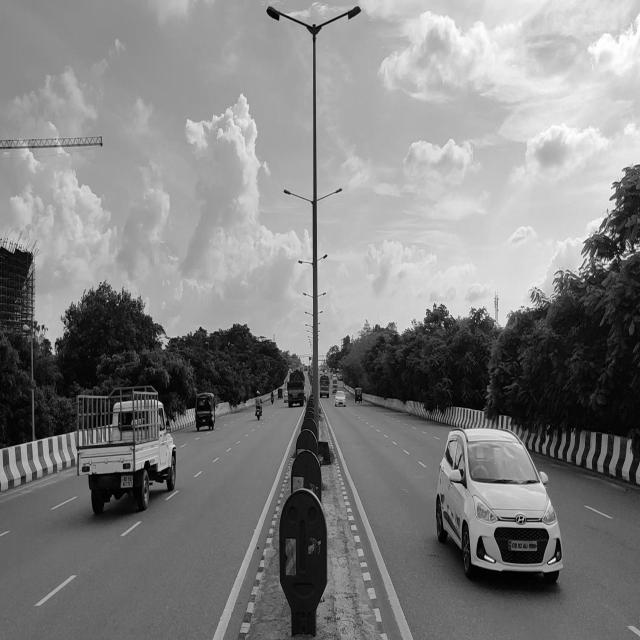car: (435, 420, 567, 594)
truck: (72, 384, 178, 516)
